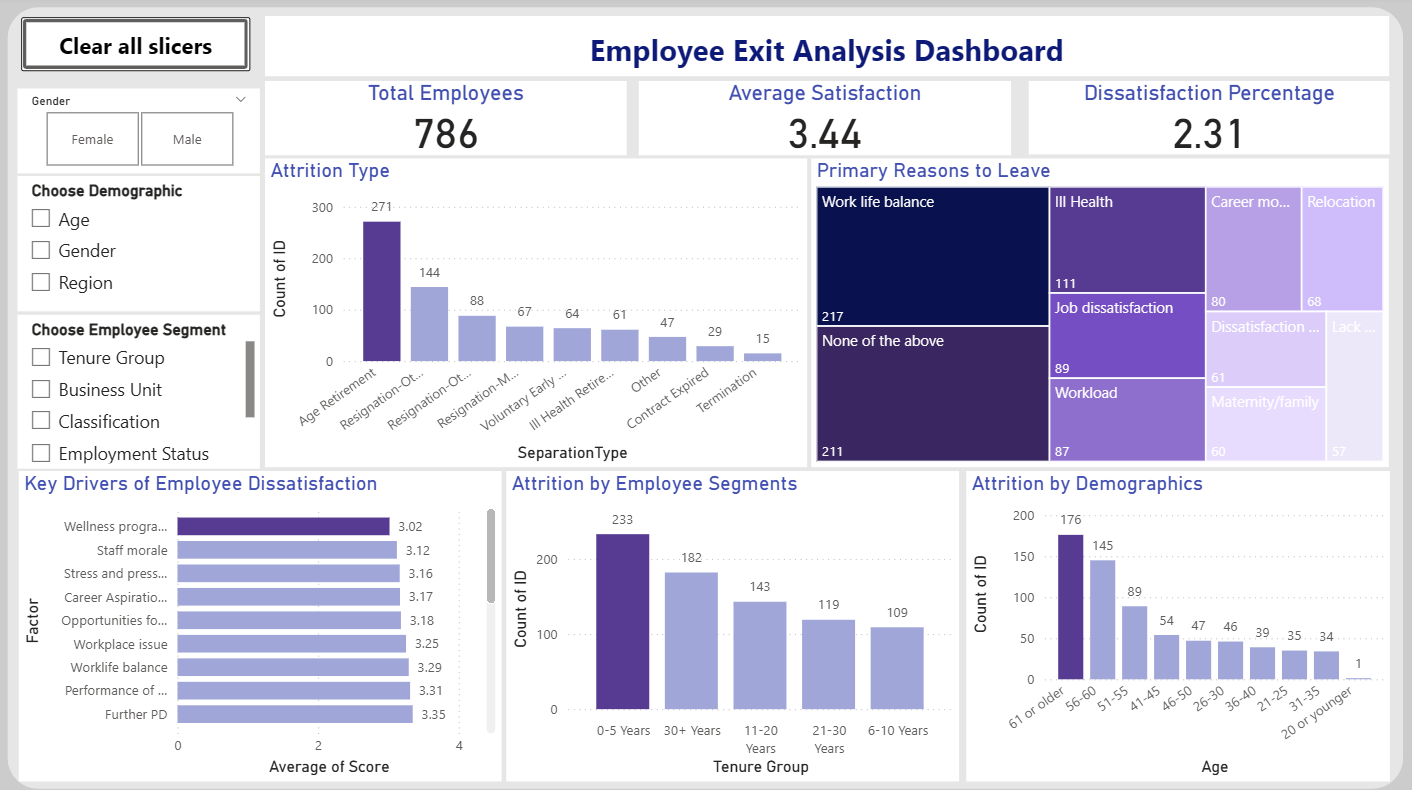

This screenshot's page, from the dashboard's own definition file:
{"tool":"powerbi","page":{"name":"Employee Exit Analysis Dashboard","canvas":[1280,720],"ordinal":0},"visuals":[{"type":"shape","box":[7.2,10.1,1262.4,707],"z":0},{"type":"card","title":"Total Employees","fields":{"Values":["Count(Employ-Exit-survey-Data.ID)"]},"box":[239.7,76.7,327.2,67.1],"z":1000},{"type":"textbox","box":[239.7,18.1,1016.5,54.3],"z":2000},{"type":"card","title":"Dissatisfaction Percentage","fields":{"Values":["Employ-Exit-survey-Data.Dissatisfaction Percentage"]},"box":[930.5,76.9,326.8,66.7],"z":3000},{"type":"clusteredColumnChart","title":"Attrition Type","fields":{"Category":["Employ-Exit-survey-Data.SeparationType"],"Y":["Count(Employ-Exit-survey-Data.ID)"]},"box":[239.7,147.4,490.2,279.3],"z":4000},{"type":"treemap","title":"Primary Reasons to Leave","fields":{"Group":["Employ-Exit-survey-Data.Reason"],"Values":["Count(Employ-Exit-survey-Data.ID)"]},"box":[733.5,147.4,522.5,279.3],"z":5000},{"type":"clusteredBarChart","title":"Key Drivers of Employee Dissatisfaction","fields":{"Category":["Employ-Exit-survey-Data.Factor"],"Y":["Avg(Employ-Exit-survey-Data.Score)"]},"box":[17,429.7,436.4,280.4],"z":6000},{"type":"card","title":"Average Satisfaction","fields":{"Values":["Employ-Exit-survey-Data.Avg_satisfaction"]},"box":[577.7,76.7,336.8,67.1],"z":7000},{"type":"clusteredColumnChart","title":"Attrition by Demographics","fields":{"Category":["Employ-Exit-survey-Data.Age","Employ-Exit-survey-Data.Gender","Employ-Exit-survey-Data.Region"],"Y":["Count(Employ-Exit-survey-Data.ID)"]},"box":[874,429.7,383.3,280.4],"z":8000},{"type":"actionButton","box":[19.2,19.2,207.3,49.1],"z":9000},{"type":"clusteredColumnChart","title":"Attrition by Employee Segments","fields":{"Category":["Employ-Exit-survey-Data.Tenure Group","Employ-Exit-survey-Data.Business Unit","Employ-Exit-survey-Data.Classification","Employ-Exit-survey-Data.Employment Status","Employ-Exit-survey-Data.Factor","Employ-Exit-survey-Data.Position"],"Y":["Count(Employ-Exit-survey-Data.ID)"]},"box":[457.9,429.7,409.3,280.4],"z":10000},{"type":"slicer","fields":{"Values":["Choose Employee Segments.Choose x-axis"]},"box":[15.8,288.3,219.3,139.1],"z":11000},{"type":"slicer","fields":{"Values":["Choose Demographic.Choose Demographic"]},"box":[15.8,162.8,219.3,122.1],"z":12000},{"type":"slicer","fields":{"Values":["Employ-Exit-survey-Data.Gender"]},"box":[15.6,83.9,219.3,76.7],"z":13000}]}

Visuals, with their boxes in screenshot pixels (x1, y1, x2, y2), scaled from the page's 1280x720 canvas onto the 1412x790 screenshot:
shape: <box>8,11,1401,787</box>
"Total Employees" card: <box>264,84,625,158</box>
textbox: <box>264,20,1386,79</box>
"Dissatisfaction Percentage" card: <box>1026,84,1387,158</box>
"Attrition Type" clusteredColumnChart: <box>264,162,805,468</box>
"Primary Reasons to Leave" treemap: <box>809,162,1386,468</box>
"Key Drivers of Employee Dissatisfaction" clusteredBarChart: <box>19,471,500,779</box>
"Average Satisfaction" card: <box>637,84,1009,158</box>
"Attrition by Demographics" clusteredColumnChart: <box>964,471,1387,779</box>
actionButton: <box>21,21,250,75</box>
"Attrition by Employee Segments" clusteredColumnChart: <box>505,471,957,779</box>
slicer - Choose Employee Segments.Choose x-axis: <box>17,316,259,469</box>
slicer - Choose Demographic.Choose Demographic: <box>17,179,259,313</box>
slicer - Employ-Exit-survey-Data.Gender: <box>17,92,259,176</box>
